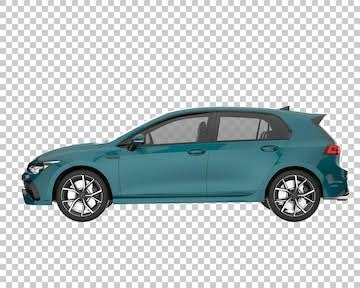car: (27, 109, 355, 224)
